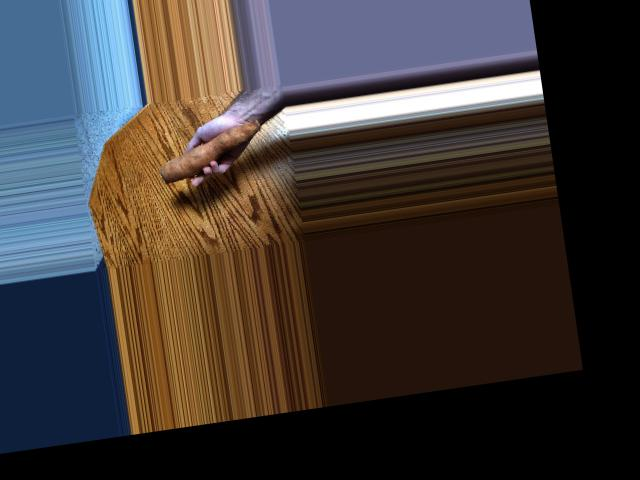sweet_potato: (153, 116, 270, 186)
